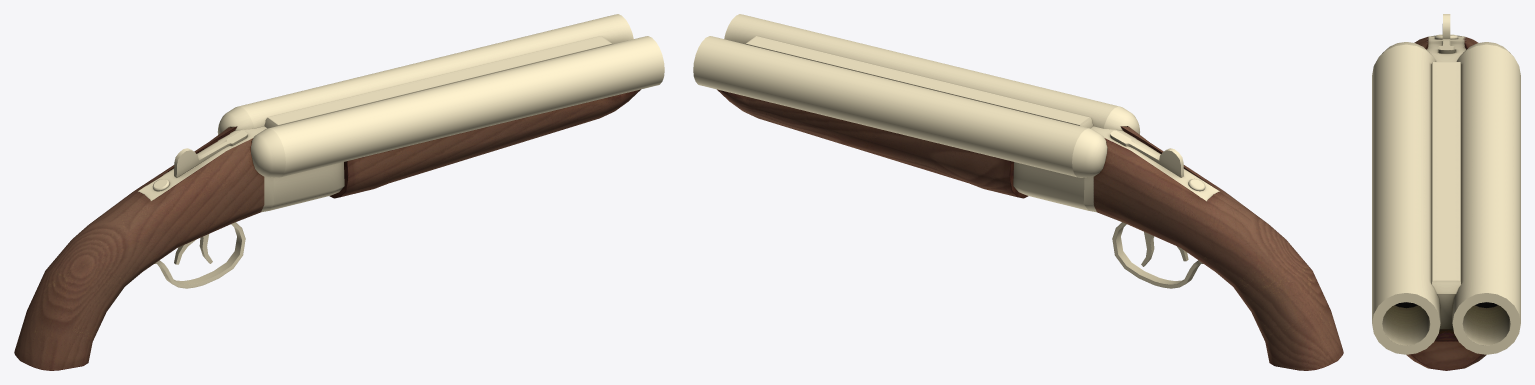
Rendered from weapon_16_3.gltf.
3 renders of one model, left to right at view 1: azimuth 30°, elevation 25°; view 2: azimuth 150°, elevation 25°; view 3: azimuth 270°, elevation 25°, orthographic. The views are drawn at different scales.
Parts seen in each view (by area): view 1: Cube.002_Cube.001; view 2: Cube.002_Cube.001; view 3: Cube.002_Cube.001.
Boxes of the visible parts, x1,y1,x2,y2 form: Cube.002_Cube.001: (14, 14, 664, 370); Cube.002_Cube.001: (693, 14, 1343, 370); Cube.002_Cube.001: (1372, 14, 1520, 370).
Size of the model in its own units: 4.33 by 1.27 by 0.6732.
1 material, 1 textured.
